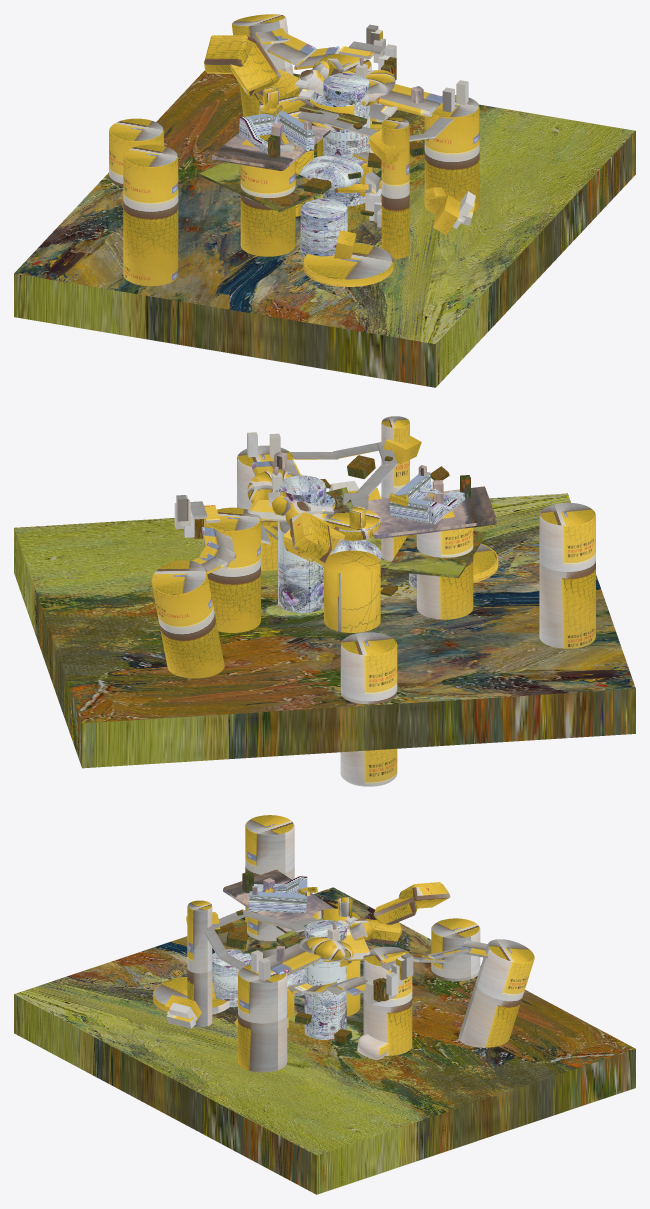
The model's file is level_0.glb.
3 views of the same model, one above another, from view 1: azimuth 30°, elevation 25°; view 2: azimuth 150°, elevation 25°; view 3: azimuth 270°, elevation 25° (orthographic). The views are drawn at different scales.
Visible parts, largest first — view 1: Plane, Cylinder.004, Cylinder.009, Cylinder.001, Cylinder.017, Cylinder.007, Cylinder.016, Cylinder.015, Cylinder.005, Cube.034, Cube.056, Cylinder.012 (+14 smaller); view 2: Plane, Cylinder.004, Cylinder.012, Cylinder.005, Cylinder.011, Cylinder.010, Cylinder.001, Cylinder.007, Cube.034, Cube.056, Cylinder.017, Cylinder.009 (+8 smaller); view 3: Plane, Cylinder.012, Cylinder.009, Cylinder.011, Cylinder.007, Cylinder.004, Cylinder.017, Cylinder.005, Cube.034, Cylinder.015, Cube.071, Cylinder.016 (+9 smaller).
Boxes of the visible parts, left/top/right/bottom form: Plane: left=14, top=70, right=635, bottom=387; Cylinder.004: left=123, top=144, right=178, bottom=286; Cylinder.009: left=424, top=95, right=479, bottom=214; Cylinder.001: left=240, top=135, right=295, bottom=256; Cylinder.017: left=381, top=117, right=409, bottom=258; Cylinder.007: left=323, top=73, right=369, bottom=206; Cylinder.016: left=303, top=242, right=393, bottom=286; Cylinder.015: left=300, top=198, right=347, bottom=257; Cylinder.005: left=109, top=118, right=163, bottom=186; Cube.034: left=211, top=125, right=330, bottom=170; Cube.056: left=199, top=162, right=328, bottom=212; Cylinder.012: left=232, top=14, right=293, bottom=116; Plane: left=14, top=493, right=635, bottom=768; Cylinder.004: left=539, top=502, right=595, bottom=648; Cylinder.012: left=151, top=560, right=224, bottom=678; Cylinder.005: left=340, top=632, right=397, bottom=786; Cylinder.011: left=204, top=507, right=260, bottom=632; Cylinder.010: left=324, top=550, right=380, bottom=632; Cylinder.001: left=416, top=494, right=473, bottom=619; Cylinder.007: left=278, top=475, right=326, bottom=613; Cube.034: left=368, top=486, right=496, bottom=539; Cube.056: left=386, top=531, right=486, bottom=578; Cylinder.017: left=381, top=416, right=409, bottom=561; Cylinder.009: left=237, top=445, right=293, bottom=570; Plane: left=14, top=887, right=635, bottom=1194; Cylinder.012: left=458, top=939, right=534, bottom=1047; Cylinder.009: left=238, top=964, right=287, bottom=1072; Cylinder.011: left=363, top=946, right=412, bottom=1055; Cylinder.007: left=304, top=920, right=346, bottom=1039; Cylinder.004: left=245, top=815, right=294, bottom=921; Cylinder.017: left=187, top=900, right=212, bottom=1027; Cylinder.005: left=431, top=918, right=480, bottom=981; Cube.034: left=223, top=869, right=334, bottom=933; Cylinder.015: left=212, top=949, right=251, bottom=1007; Cube.071: left=248, top=891, right=299, bottom=912; Cylinder.016: left=153, top=977, right=229, bottom=1014.
Bounding box in the file's own units: 341 × 116 × 334.
Materials: 4 (4 with a texture image).
